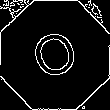O_S: (26, 23, 84, 87)
